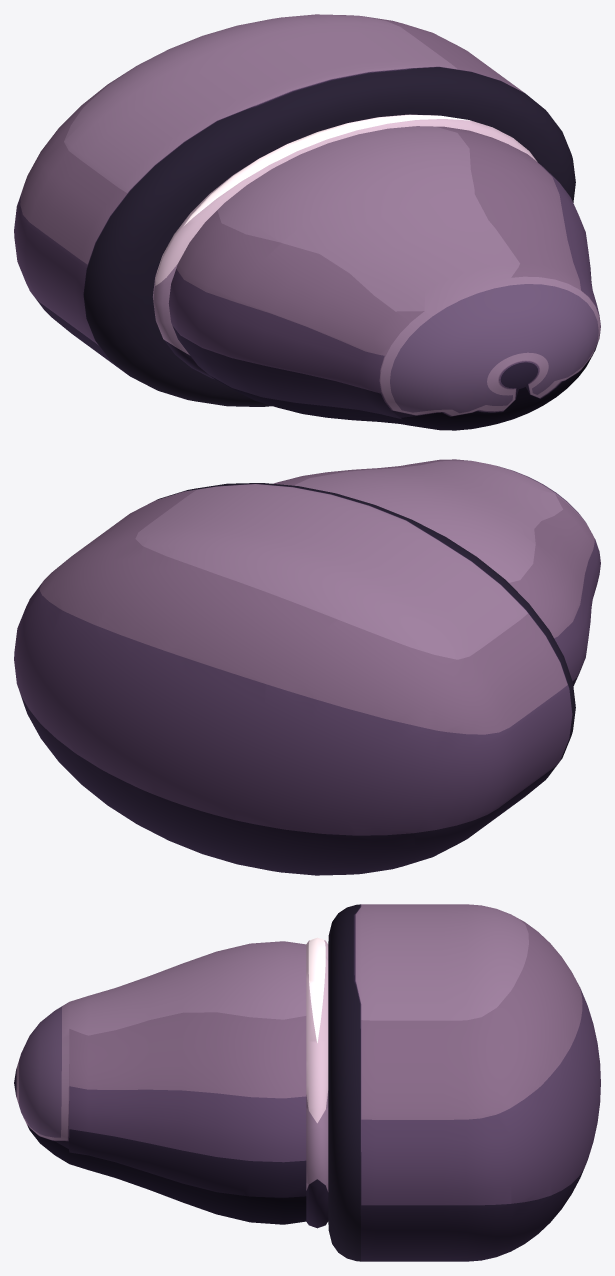
The model's file is deli_shell.glb.
3 renders of one model, top to bottom at view 1: azimuth 30°, elevation 25°; view 2: azimuth 150°, elevation 25°; view 3: azimuth 270°, elevation 25°, orthographic. The views are drawn at different scales.
Parts seen in each view (by area): view 1: body, cap, collar; view 2: cap, body; view 3: cap, body, collar.
Boxes of the visible parts, x1=… form: body: x1=168, y1=126, x2=600, y2=430; cap: x1=14, y1=14, x2=575, y2=406; collar: x1=153, y1=114, x2=537, y2=379; cap: x1=14, y1=483, x2=575, y2=875; body: x1=273, y1=459, x2=600, y2=686; cap: x1=328, y1=904, x2=600, y2=1261; body: x1=14, y1=941, x2=306, y2=1224; collar: x1=306, y1=937, x2=328, y2=1228.
Bounding box in the file's own units: 12.1 × 7.5 × 13.97.
